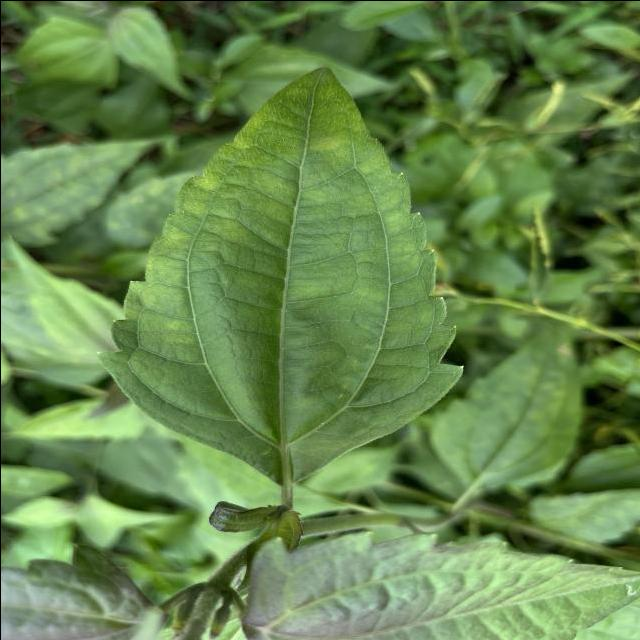Chromolaena odorata: (89, 63, 472, 490)
